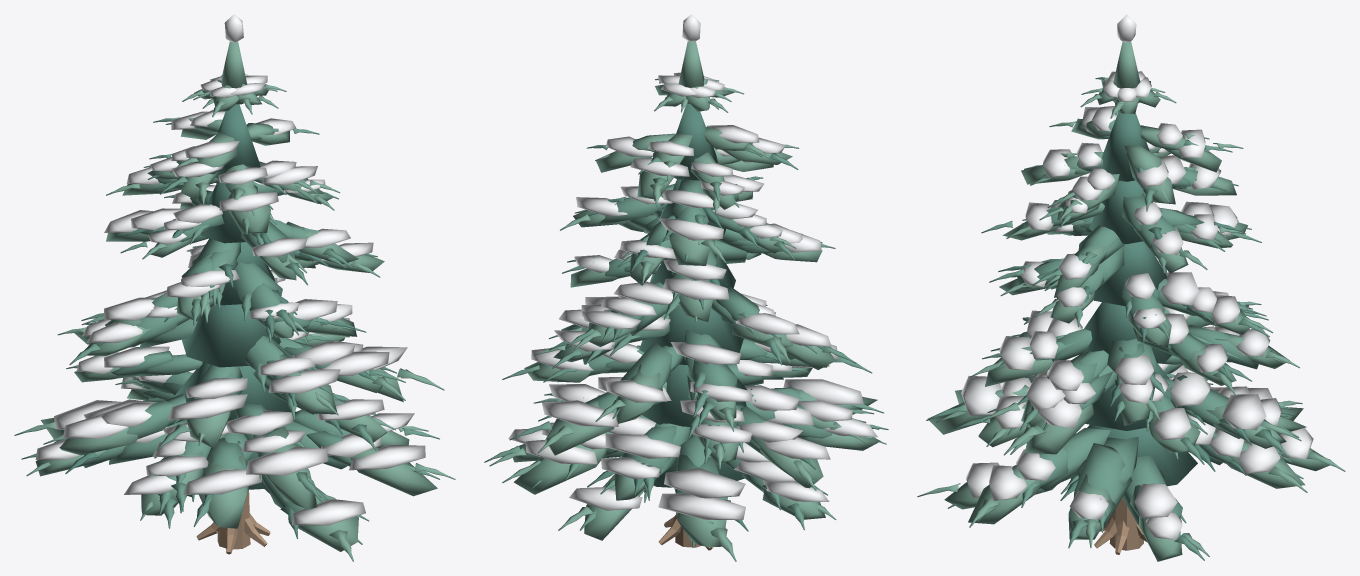
Rendered from Snow_Pine_1.gltf.
3 renders of one model, left to right at view 1: azimuth 30°, elevation 25°; view 2: azimuth 150°, elevation 25°; view 3: azimuth 270°, elevation 25°, orthographic.
Visible parts, largest first — view 1: Snow_Pine_1; view 2: Snow_Pine_1; view 3: Snow_Pine_1.
Boxes of the visible parts, x1,y1,x2,y2 form: Snow_Pine_1: [14, 14, 455, 561]; Snow_Pine_1: [484, 14, 888, 561]; Snow_Pine_1: [917, 14, 1345, 561].
Size of the model in its own units: 3.83 by 5.47 by 4.01.
